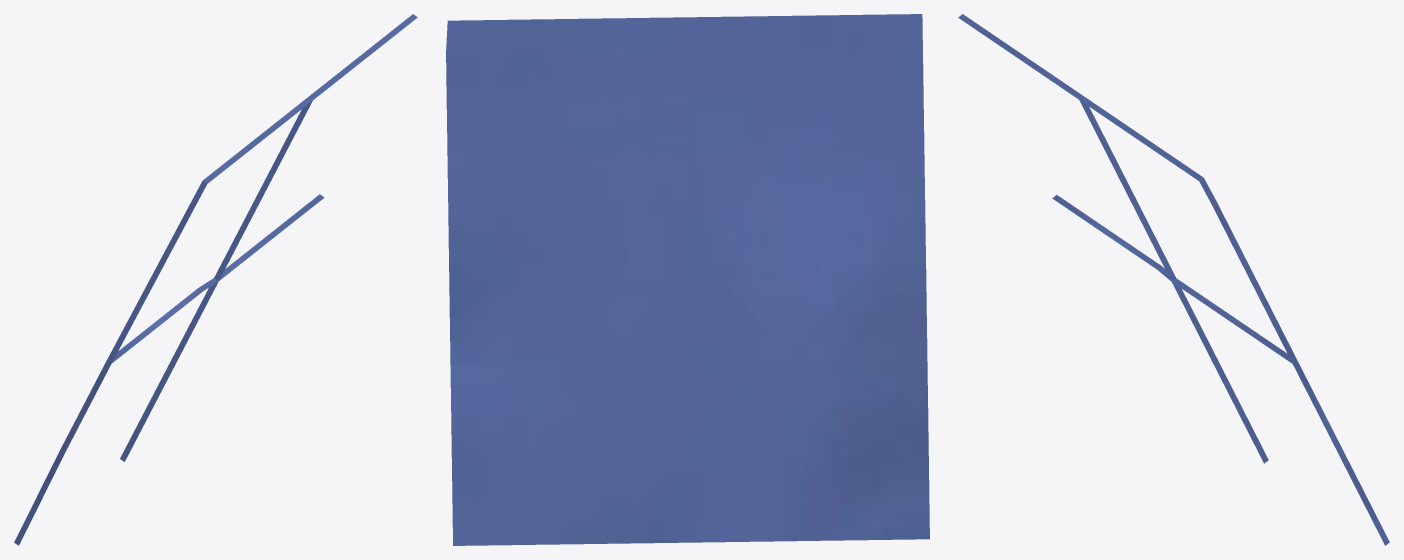
The picture shows the model from 3 angles, left to right: view 1: azimuth 30°, elevation 25°; view 2: azimuth 150°, elevation 25°; view 3: azimuth 270°, elevation 25°; orthographic projection. The views are drawn at different scales.
Bounding box in the file's own units: 19631 × 17787 × 16776.
Materials: 1 (1 with a texture image).
